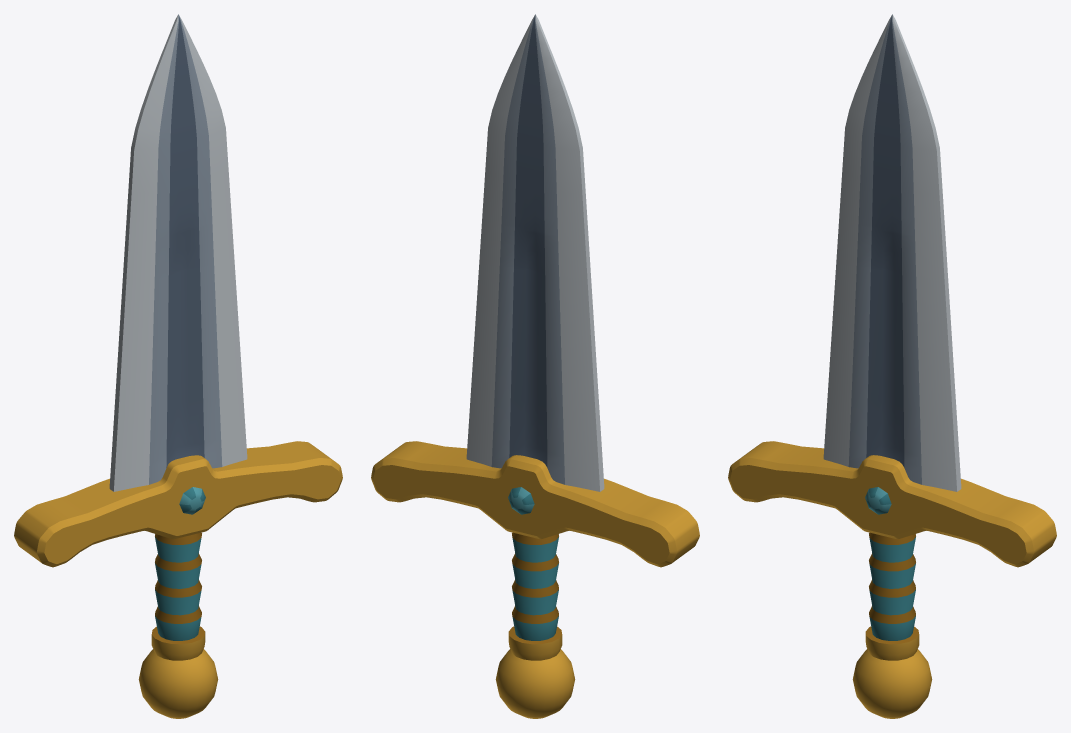
Rendered from Broadsword_01.glb.
The picture shows the model from 3 angles, left to right: view 1: azimuth 30°, elevation 25°; view 2: azimuth 150°, elevation 25°; view 3: azimuth 330°, elevation 25°; orthographic projection.
Visible parts, largest first — view 1: Broadsword_01; view 2: Broadsword_01; view 3: Broadsword_01.
Boxes of the visible parts, x1,y1,x2,y2 form: Broadsword_01: [14, 14, 342, 718]; Broadsword_01: [371, 14, 699, 718]; Broadsword_01: [728, 14, 1056, 718].
Bounding box in the file's own units: 2.91 × 6.37 × 0.654.
